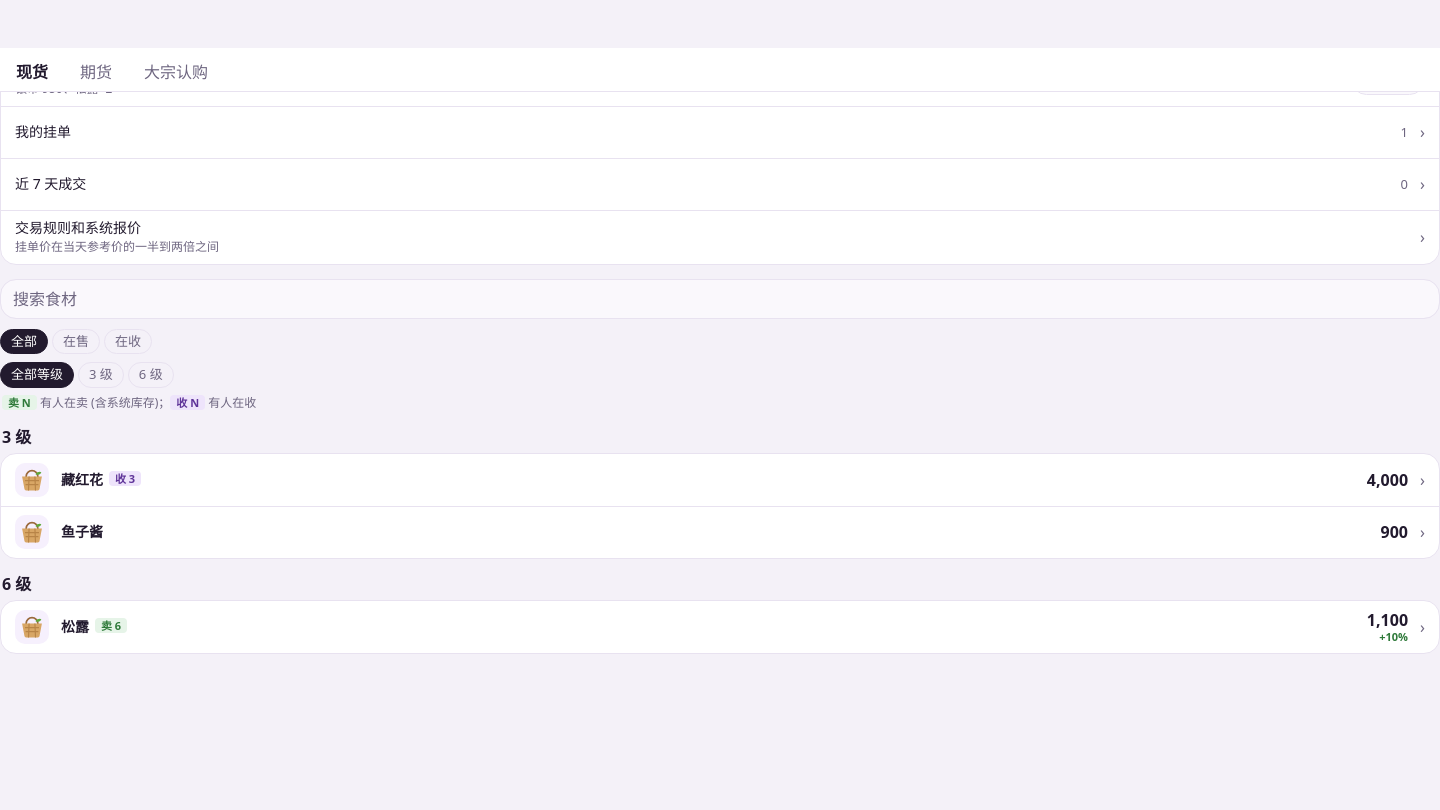
it: ExchangeView（156-1 设计 §8） › 食材按等级分组；选中后显示盘口、参考价和允许范围
expect the button with test id "ex-food-12" shows "藏红花": met, box [1, 454, 1439, 506]
Click the button with test id "ex-food-11": {"x": 32, "y": 627} [1, 601, 1439, 653]
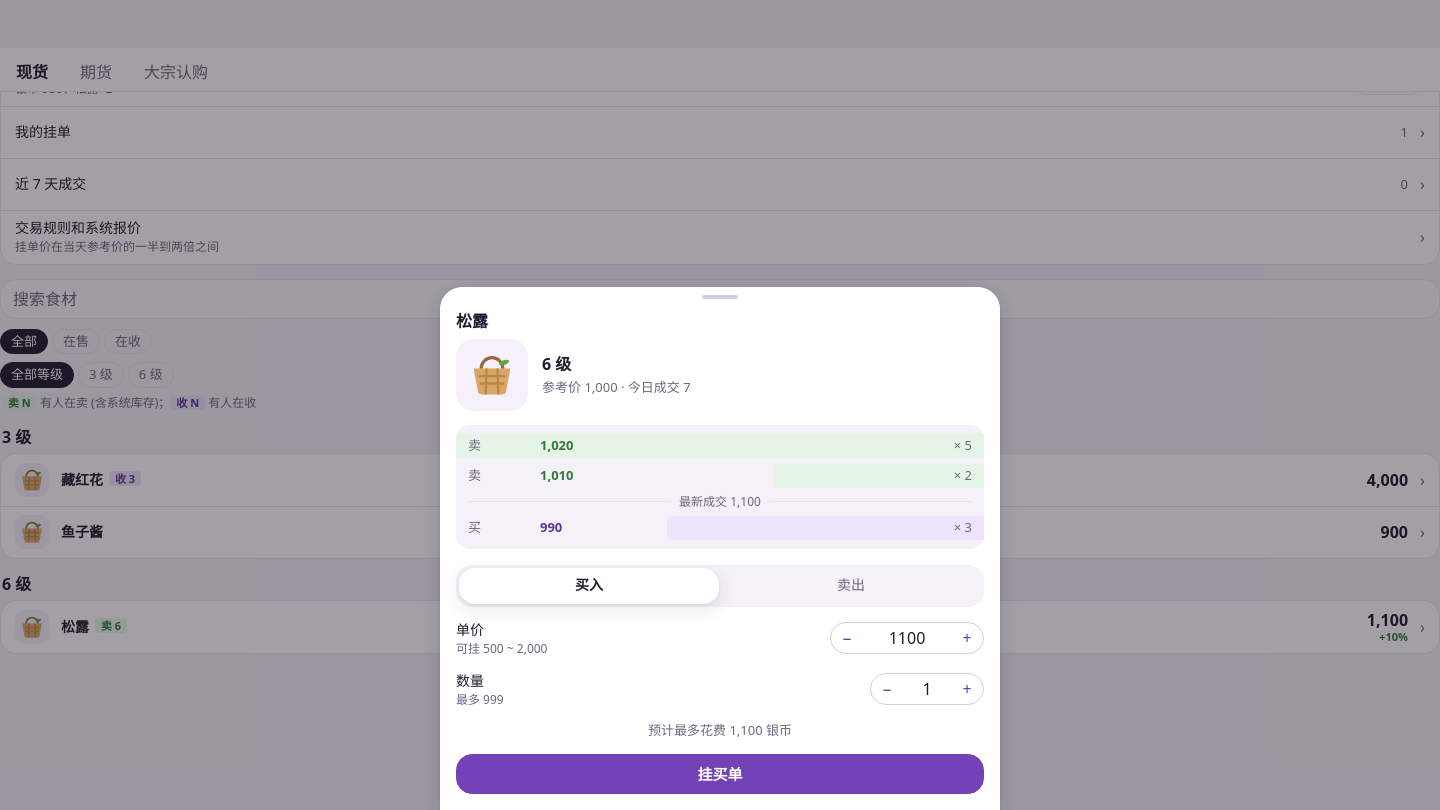
expect the element with test id "ex-book" shows "1,010": met, box [456, 460, 984, 490]
expect the text with class "dt-detail-sub" shows "参考价 1,000": met, box [542, 378, 691, 396]
expect the text with test id "ex-band" shows "500 ~ 2,000": met, box [456, 640, 548, 656]
